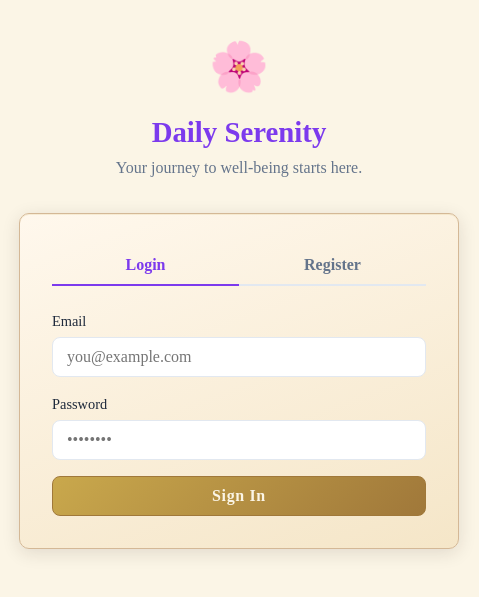
Test: AuthPage › shows validation error when submitting empty login form
Click the button "Sign In" at (239, 496), box x1=52 y1=476 x2=426 y2=516
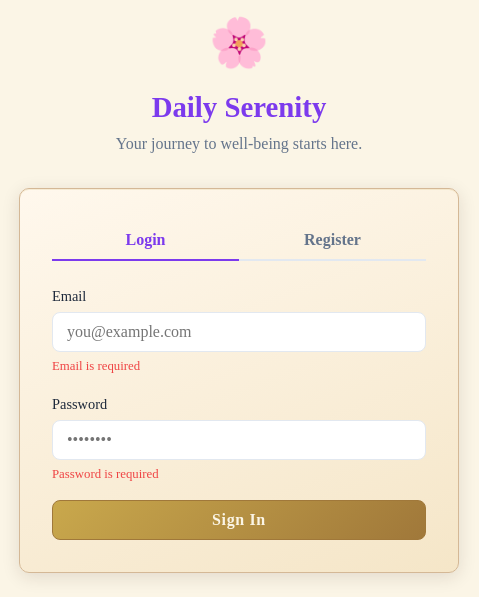
expect the text "Email is required" is shown: met, box x1=52 y1=359 x2=140 y2=373
